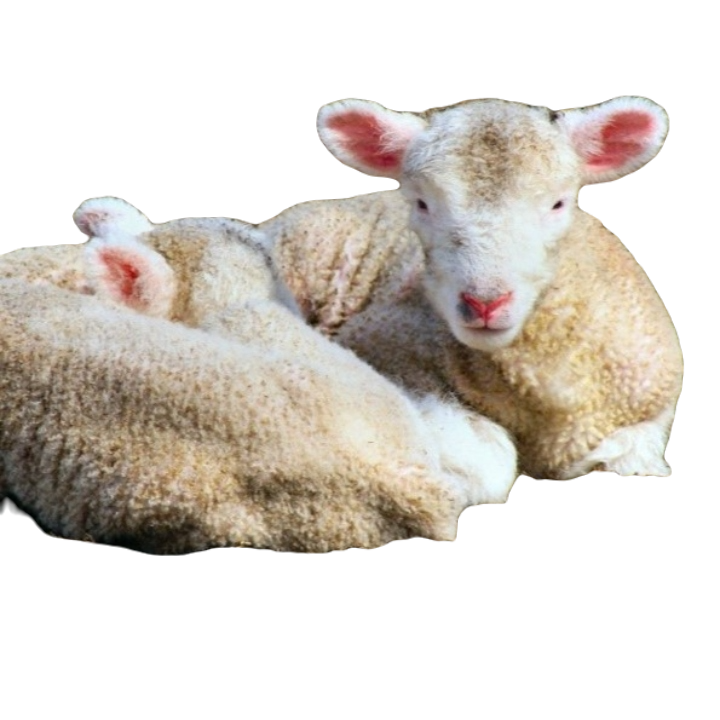Sheep: (309, 88, 696, 488)
